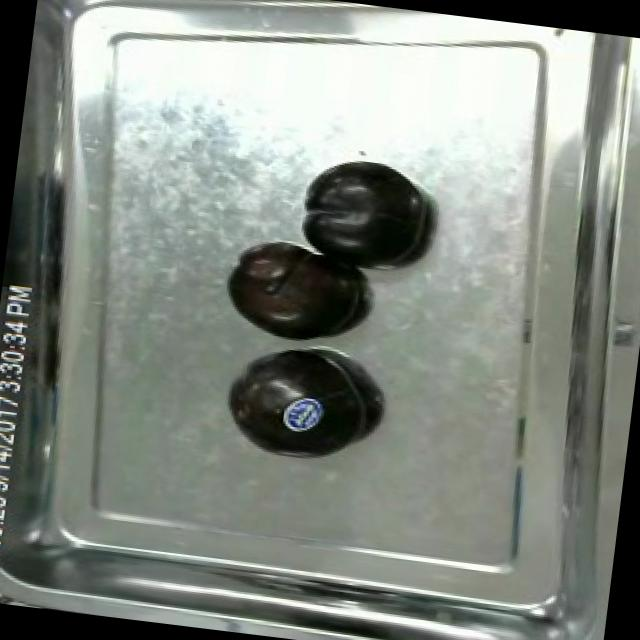Fruit: (211, 330, 386, 476), (212, 234, 376, 356), (292, 149, 439, 278), (271, 387, 336, 440)
